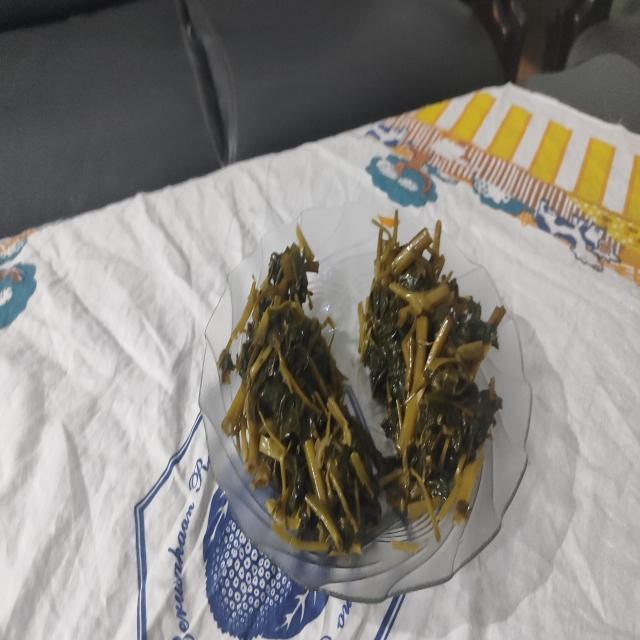tumis_kangkung: (222, 233, 381, 553), (358, 211, 504, 519)
